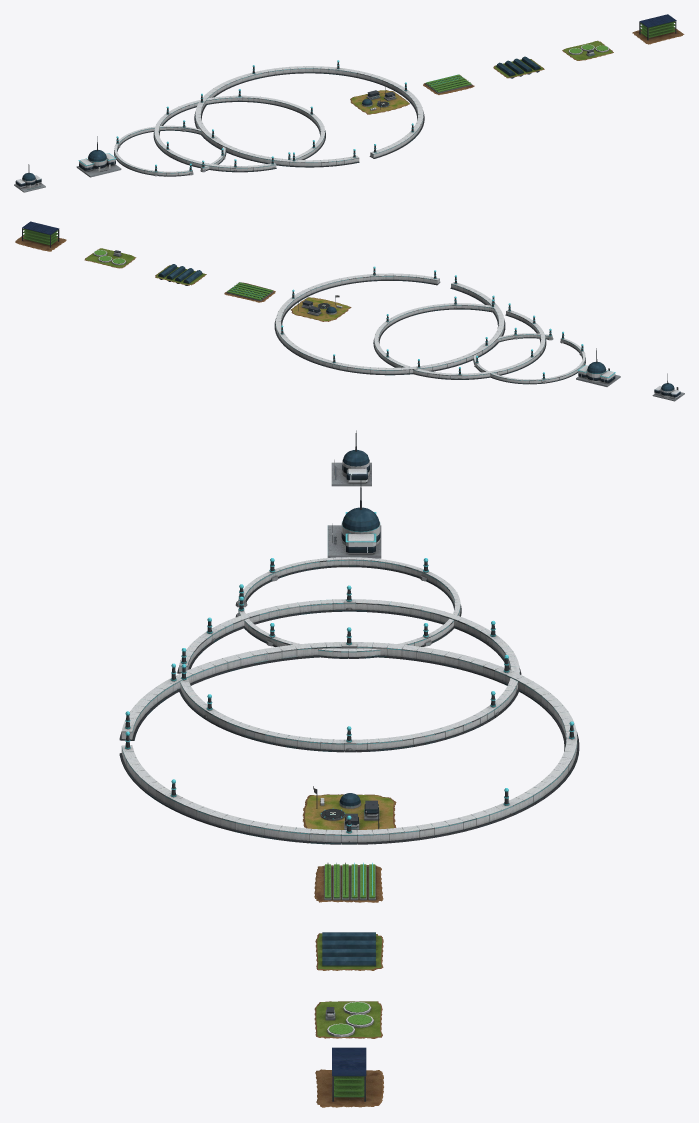
The model's file is shared-future.glb.
3 views of the same model, one above another, from view 1: azimuth 30°, elevation 25°; view 2: azimuth 150°, elevation 25°; view 3: azimuth 270°, elevation 25° (orthographic). The views are drawn at different scales.
Parts seen in each view (by area): view 1: LOD0.004, LOD0.003, LOD0.002, LOD0.005, LOD0.009, LOD0.001, LOD0.007, LOD0.006, LOD0.008, LOD0; view 2: LOD0.004, LOD0.003, LOD0.002, LOD0.005, LOD0.009, LOD0.001, LOD0.007, LOD0.008, LOD0.006, LOD0; view 3: LOD0.004, LOD0.003, LOD0.002, LOD0.009, LOD0.005, LOD0.007, LOD0.006, LOD0.008, LOD0.001, LOD0.
Boxes of the visible parts, left/top/right/bottom form: LOD0.004: left=194, top=60, right=424, bottom=167; LOD0.003: left=153, top=89, right=325, bottom=172; LOD0.002: left=114, top=120, right=226, bottom=176; LOD0.005: left=350, top=82, right=409, bottom=114; LOD0.009: left=632, top=14, right=684, bottom=44; LOD0.001: left=76, top=136, right=121, bottom=177; LOD0.007: left=493, top=56, right=544, bottom=78; LOD0.006: left=423, top=74, right=474, bottom=94; LOD0.008: left=562, top=40, right=613, bottom=60; LOD0: left=14, top=164, right=45, bottom=192; LOD0.004: left=274, top=266, right=505, bottom=375; LOD0.003: left=373, top=296, right=546, bottom=379; LOD0.002: left=473, top=327, right=585, bottom=384; LOD0.005: left=290, top=295, right=351, bottom=321; LOD0.009: left=15, top=221, right=66, bottom=251; LOD0.001: left=576, top=348, right=620, bottom=386; LOD0.007: left=155, top=264, right=206, bottom=285; LOD0.008: left=84, top=248, right=136, bottom=268; LOD0.006: left=224, top=282, right=275, bottom=302; LOD0: left=652, top=373, right=684, bottom=401; LOD0.004: left=119, top=627, right=579, bottom=844; LOD0.003: left=177, top=585, right=521, bottom=752; LOD0.002: left=235, top=557, right=461, bottom=658; LOD0.009: left=315, top=1047, right=383, bottom=1107; LOD0.005: left=302, top=786, right=396, bottom=829; LOD0.007: left=315, top=932, right=383, bottom=970; LOD0.006: left=314, top=862, right=383, bottom=902; LOD0.008: left=314, top=1001, right=382, bottom=1038; LOD0.001: left=327, top=480, right=381, bottom=558; LOD0: left=331, top=430, right=371, bottom=486.
Size of what is drawn, in the model's own units: 28.35 by 1.42 by 8.57.
Materials: 3 (3 with a texture image).
